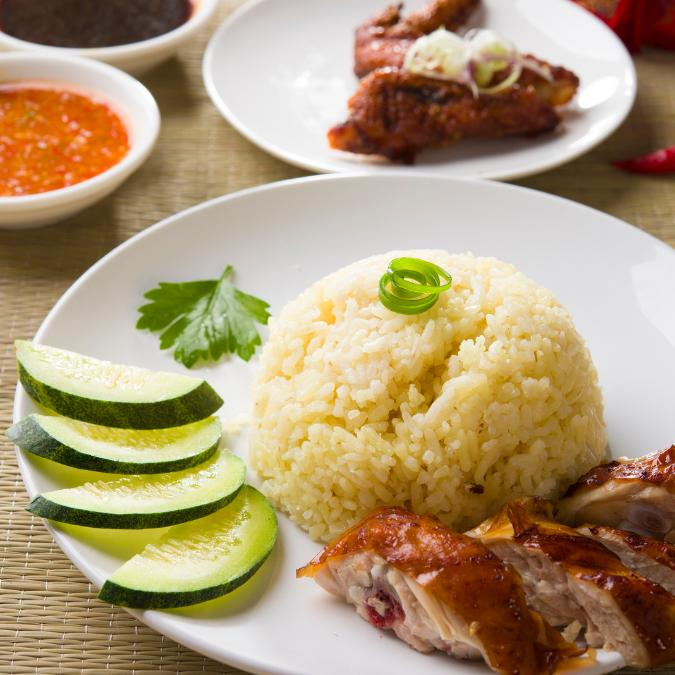buah_sayur_lainnya: (46, 361, 231, 576)
daging: (360, 535, 661, 645)
makanan_berpati: (278, 327, 559, 485)
